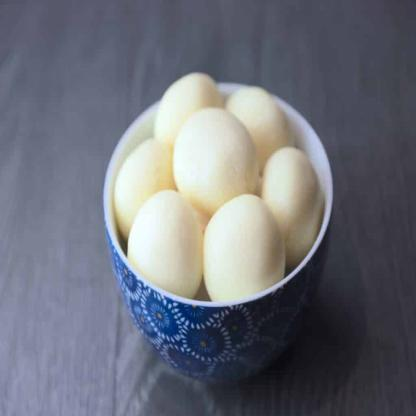rasgulla: (172, 106, 258, 213), (202, 195, 285, 303), (127, 194, 202, 300), (261, 147, 325, 264), (113, 138, 176, 240), (226, 86, 298, 172), (156, 73, 223, 141)
